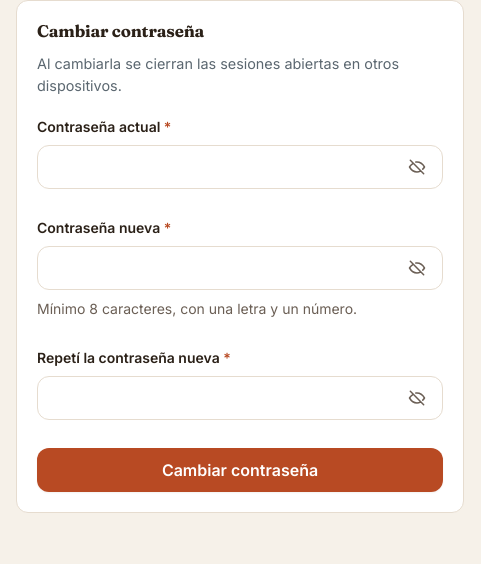
Test: ChangePasswordForm › no saca de la cuenta si el servidor rechaza
In the password field labelled "Contraseña actual *": (240, 167) [37,145,443,189], type "Vieja1"
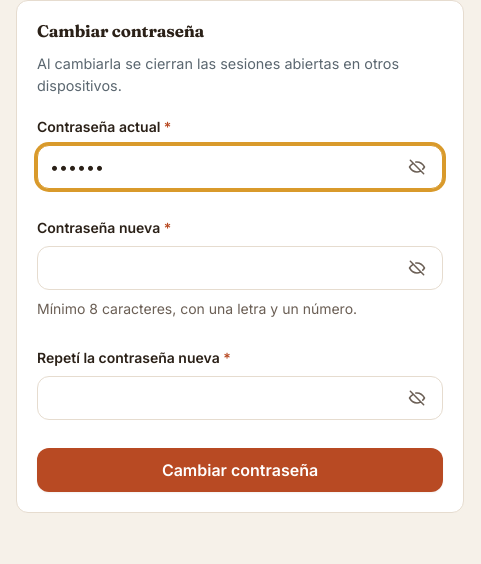
In the password field labelled "Contraseña nueva *": (240, 268) [37,246,443,290], type "NuevaClave9"
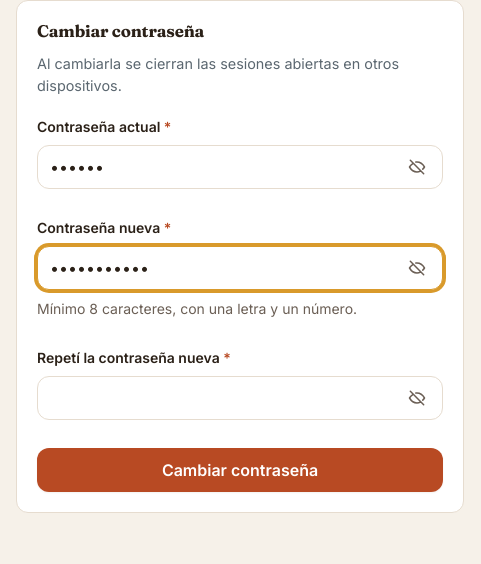
In the password field labelled "Repetí la contraseña nueva *": (240, 398) [37,376,443,420], type "NuevaClave9"
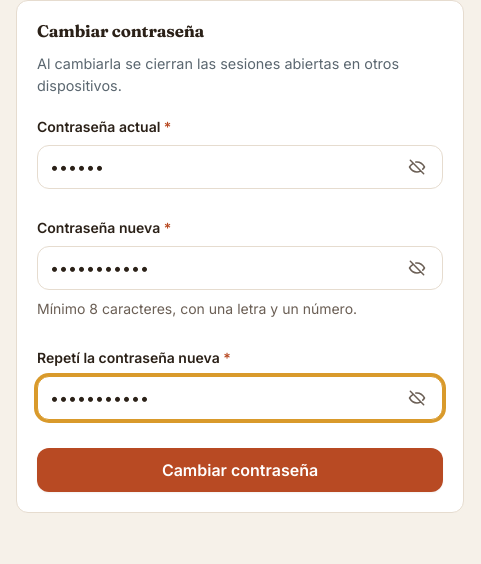
Click the button "Cambiar contraseña": (240, 470) [37,448,443,492]
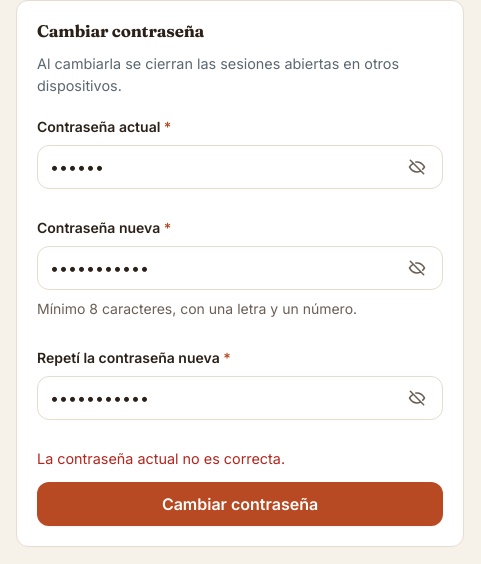
Expected: the text "La contraseña actual no es correcta." is shown, [37,450,285,467]
